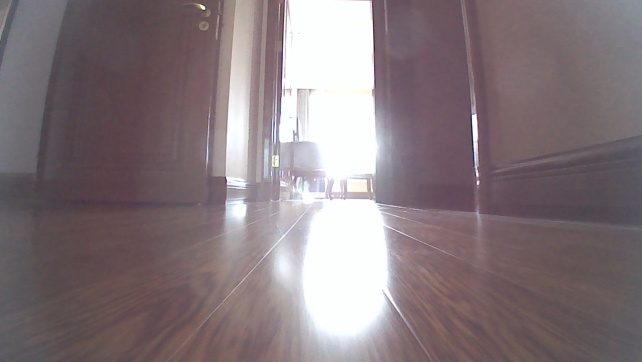door_anno: (34, 0, 222, 210)
